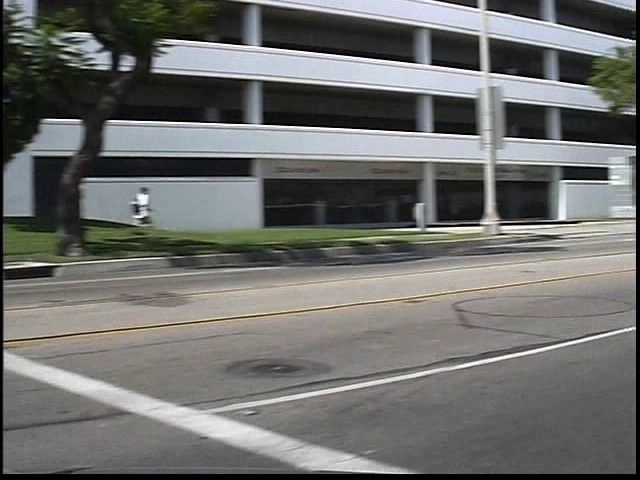person: (149, 178, 176, 246)
